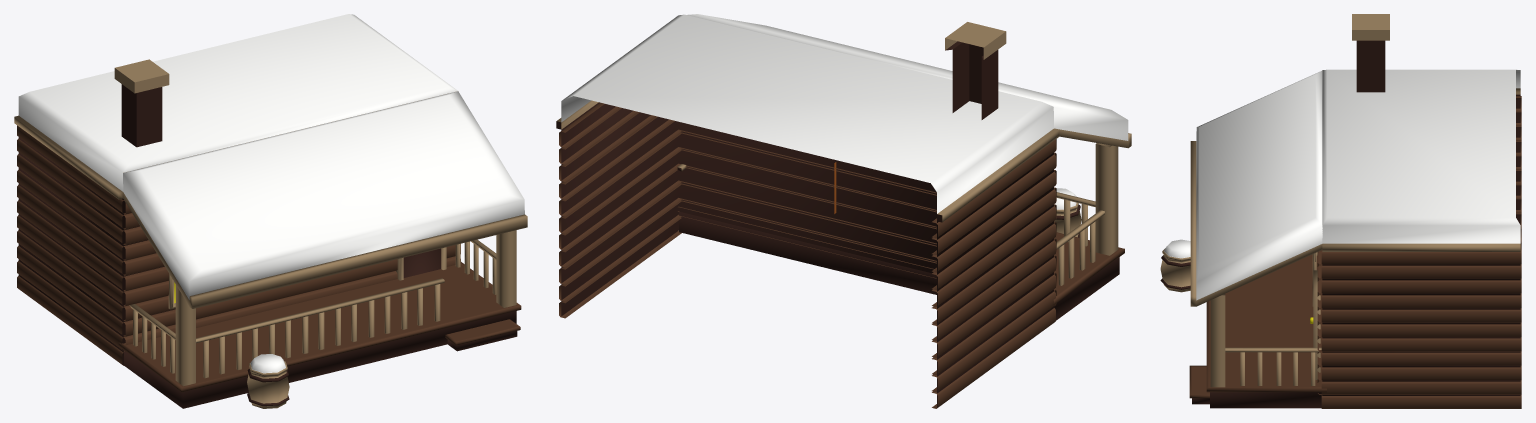
Rendered from Casa02.fbx.
The picture shows the model from 3 angles, left to right: view 1: azimuth 30°, elevation 25°; view 2: azimuth 150°, elevation 25°; view 3: azimuth 270°, elevation 25°; orthographic projection. The views are drawn at different scales.
Visible parts, largest first — view 1: Casa01.001; view 2: Casa01.001; view 3: Casa01.001.
Part boxes in pixels (x1,y1,x2,y2): Casa01.001: [14, 14, 527, 408]; Casa01.001: [556, 14, 1131, 408]; Casa01.001: [1160, 14, 1521, 408].
Bounding box in the file's own units: 412 × 303 × 394.
